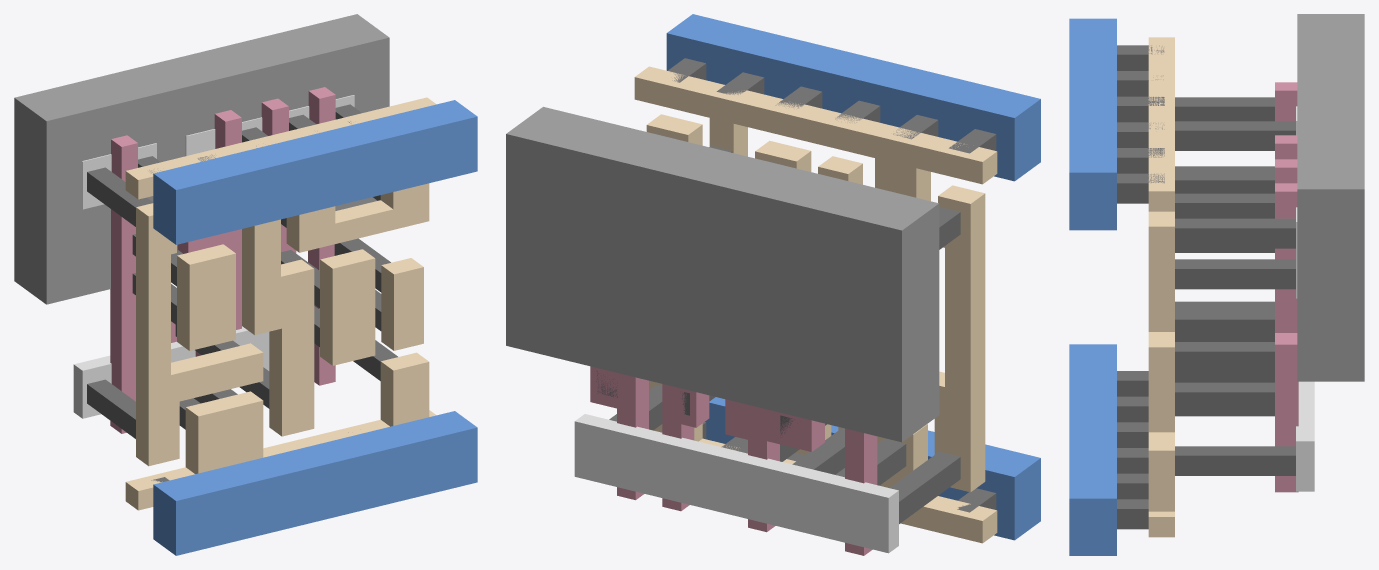
Rendered from sky130_fd_sc_hd__a21boi_0.gds.gltf.
The picture shows the model from 3 angles, left to right: view 1: azimuth 30°, elevation 25°; view 2: azimuth 150°, elevation 25°; view 3: azimuth 270°, elevation 25°; orthographic projection. The views are drawn at different scales.
Visible parts, largest first — view 1: sky130_fd_sc_hd__a21boi_0_li1, sky130_fd_sc_hd__a21boi_0_met1, sky130_fd_sc_hd__a21boi_0_nwell, sky130_fd_sc_hd__a21boi_0_poly, sky130_fd_sc_hd__a21boi_0_licon, sky130_fd_sc_hd__a21boi_0_diff; view 2: sky130_fd_sc_hd__a21boi_0_nwell, sky130_fd_sc_hd__a21boi_0_li1, sky130_fd_sc_hd__a21boi_0_met1, sky130_fd_sc_hd__a21boi_0_diff, sky130_fd_sc_hd__a21boi_0_poly, sky130_fd_sc_hd__a21boi_0_licon, sky130_fd_sc_hd__a21boi_0_mcon; view 3: sky130_fd_sc_hd__a21boi_0_licon, sky130_fd_sc_hd__a21boi_0_nwell, sky130_fd_sc_hd__a21boi_0_met1, sky130_fd_sc_hd__a21boi_0_li1, sky130_fd_sc_hd__a21boi_0_mcon, sky130_fd_sc_hd__a21boi_0_poly, sky130_fd_sc_hd__a21boi_0_diff.
Boxes of the visible parts, x1=… form: sky130_fd_sc_hd__a21boi_0_li1: x1=125, y1=97, x2=436, y2=510; sky130_fd_sc_hd__a21boi_0_met1: x1=153, y1=100, x2=477, y2=555; sky130_fd_sc_hd__a21boi_0_nwell: x1=14, y1=14, x2=389, y2=304; sky130_fd_sc_hd__a21boi_0_poly: x1=110, y1=87, x2=335, y2=433; sky130_fd_sc_hd__a21boi_0_licon: x1=87, y1=104, x2=397, y2=438; sky130_fd_sc_hd__a21boi_0_diff: x1=73, y1=95, x2=354, y2=418; sky130_fd_sc_hd__a21boi_0_nwell: x1=506, y1=106, x2=939, y2=442; sky130_fd_sc_hd__a21boi_0_li1: x1=634, y1=66, x2=997, y2=543; sky130_fd_sc_hd__a21boi_0_met1: x1=666, y1=14, x2=1040, y2=540; sky130_fd_sc_hd__a21boi_0_diff: x1=574, y1=414, x2=898, y2=553; sky130_fd_sc_hd__a21boi_0_poly: x1=590, y1=366, x2=877, y2=555; sky130_fd_sc_hd__a21boi_0_licon: x1=596, y1=134, x2=960, y2=523; sky130_fd_sc_hd__a21boi_0_mcon: x1=668, y1=58, x2=996, y2=512; sky130_fd_sc_hd__a21boi_0_licon: x1=1175, y1=97, x2=1295, y2=475; sky130_fd_sc_hd__a21boi_0_nwell: x1=1297, y1=14, x2=1364, y2=381; sky130_fd_sc_hd__a21boi_0_met1: x1=1069, y1=18, x2=1116, y2=555; sky130_fd_sc_hd__a21boi_0_li1: x1=1148, y1=37, x2=1174, y2=537; sky130_fd_sc_hd__a21boi_0_mcon: x1=1117, y1=45, x2=1164, y2=529; sky130_fd_sc_hd__a21boi_0_poly: x1=1275, y1=82, x2=1298, y2=492; sky130_fd_sc_hd__a21boi_0_diff: x1=1296, y1=106, x2=1314, y2=491.
Bounding box in the file's own units: 3.14 × 3.2 × 2.24.
